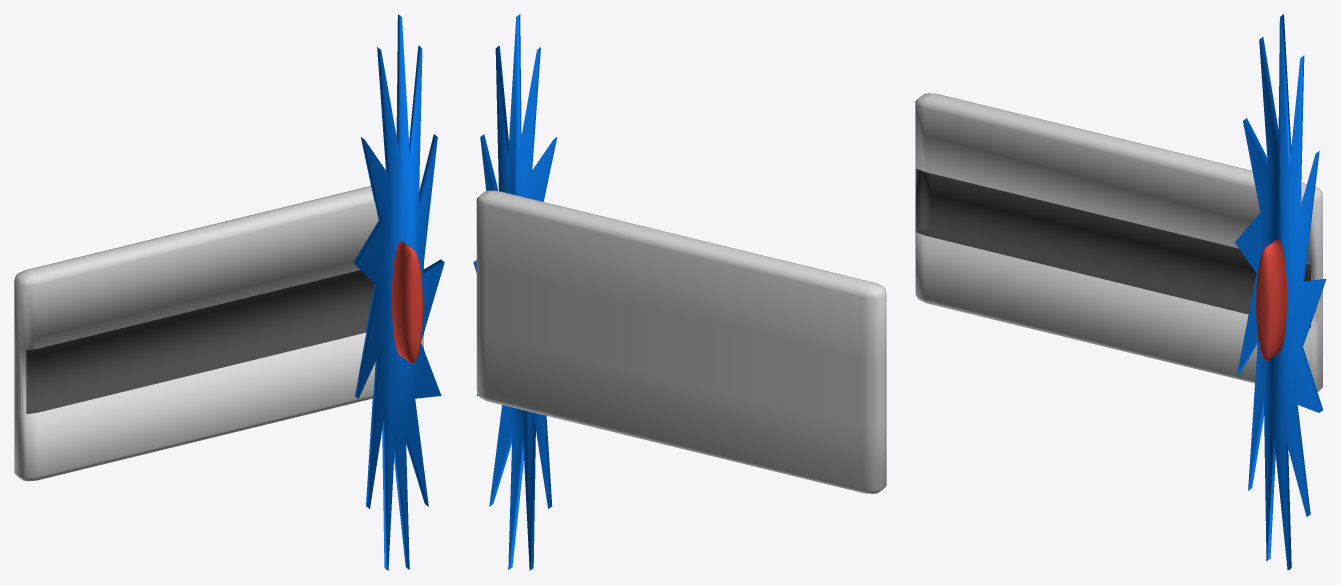
Rendered from ChainSaw 1.fbx.
3 views of the same model, side by side, from view 1: azimuth 30°, elevation 25°; view 2: azimuth 150°, elevation 25°; view 3: azimuth 330°, elevation 25° (orthographic).
Visible parts, largest first — view 1: ChainSaw, Circle_001__1_, Cylinder_001__1_; view 2: ChainSaw, Circle_001__1_; view 3: ChainSaw, Circle_001__1_, Cylinder_001__1_.
Part boxes in pixels (bbox=[...]): ChainSaw: bbox=[14, 181, 423, 481]; Circle_001__1_: bbox=[353, 14, 444, 570]; Cylinder_001__1_: bbox=[391, 241, 422, 363]; ChainSaw: bbox=[476, 190, 886, 493]; Circle_001__1_: bbox=[473, 14, 557, 570]; ChainSaw: bbox=[915, 93, 1322, 391]; Circle_001__1_: bbox=[1235, 14, 1326, 570]; Cylinder_001__1_: bbox=[1256, 239, 1286, 361].
Size of the model in its own units: 2.06 by 2.62 by 0.29.
